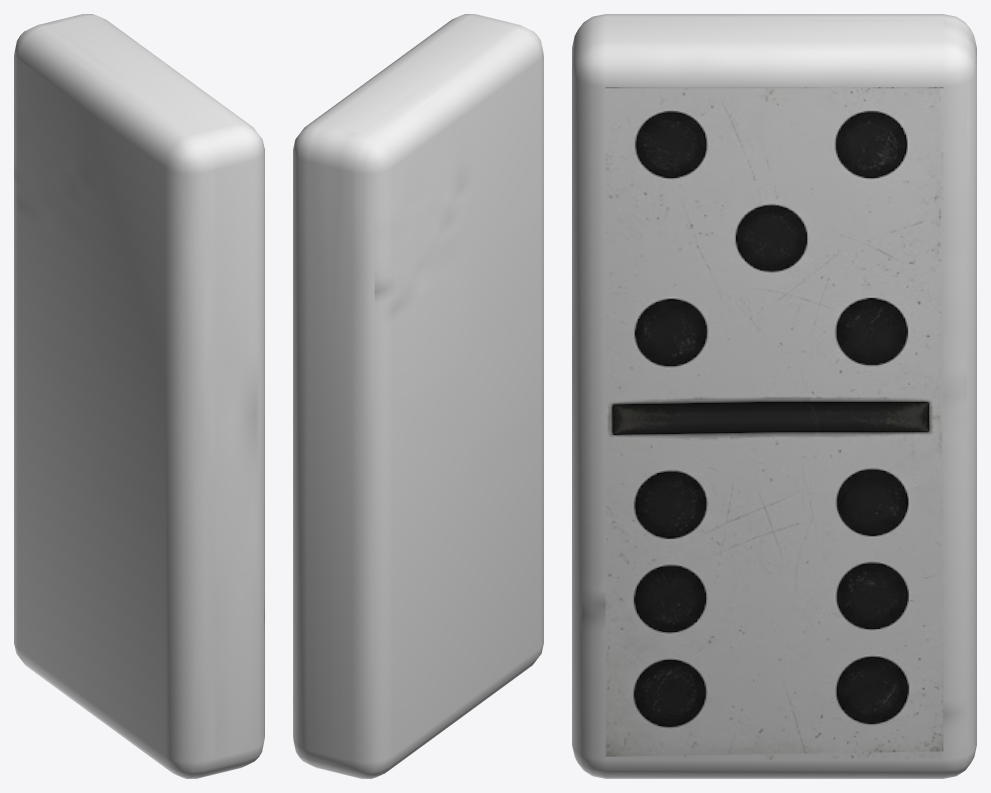
Rendered from FichaRealista.fbx.
3 views of the same model, side by side, from view 1: azimuth 30°, elevation 25°; view 2: azimuth 150°, elevation 25°; view 3: azimuth 270°, elevation 25° (orthographic). The views are drawn at different scales.
Visible parts, largest first — view 1: Cube; view 2: Cube; view 3: Cube.
Boxes of the visible parts, bbox=[...] form: Cube: bbox=[14, 14, 264, 778]; Cube: bbox=[293, 14, 543, 778]; Cube: bbox=[572, 14, 976, 778].
Bounding box in the file's own units: 750 × 4800 × 2400.
